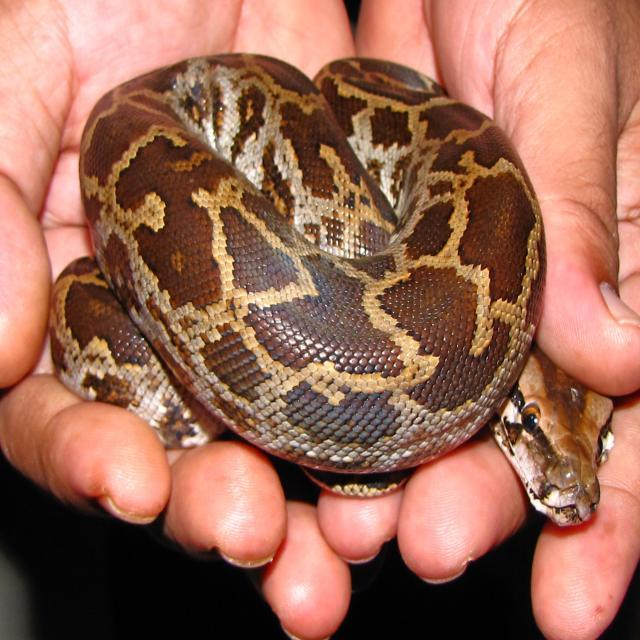Snake: (47, 50, 615, 528)
